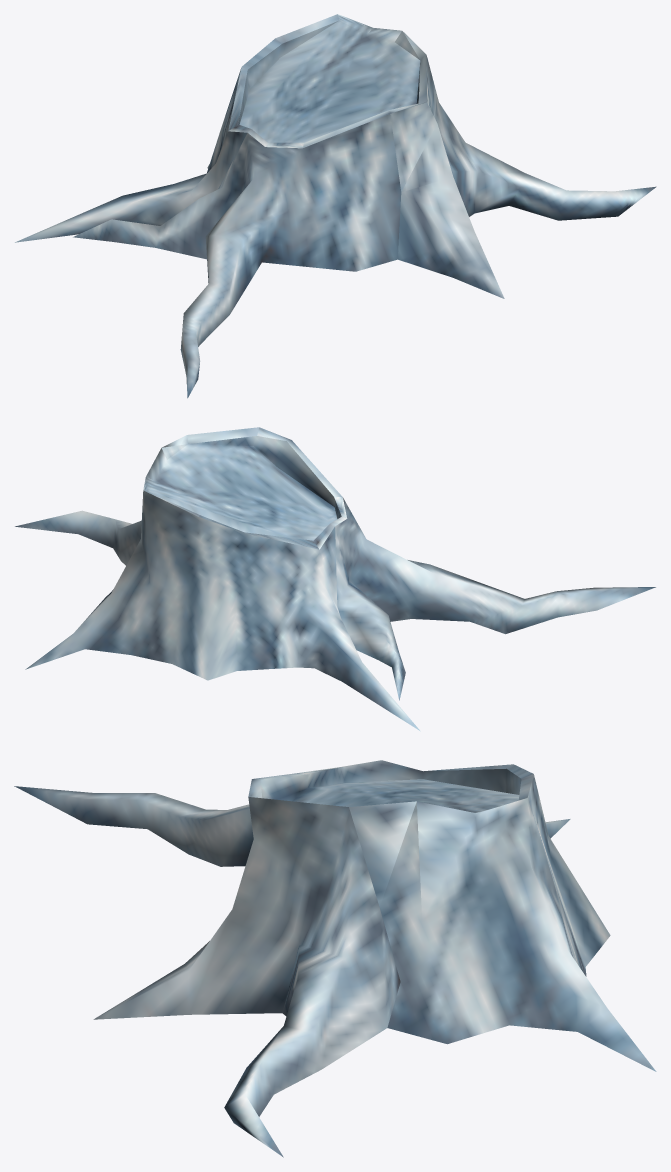
The picture shows the model from 3 angles, top to bottom: view 1: azimuth 30°, elevation 25°; view 2: azimuth 150°, elevation 25°; view 3: azimuth 270°, elevation 25°; orthographic projection. The views are drawn at different scales.
Visible parts, largest first — view 1: wj04; view 2: wj04; view 3: wj04.
Boxes of the visible parts, bbox=[...] form: wj04: bbox=[15, 14, 656, 398]; wj04: bbox=[15, 427, 655, 731]; wj04: bbox=[14, 760, 656, 1157].
Size of the model in its own units: 811 by 245 by 597.
1 material, 1 textured.
